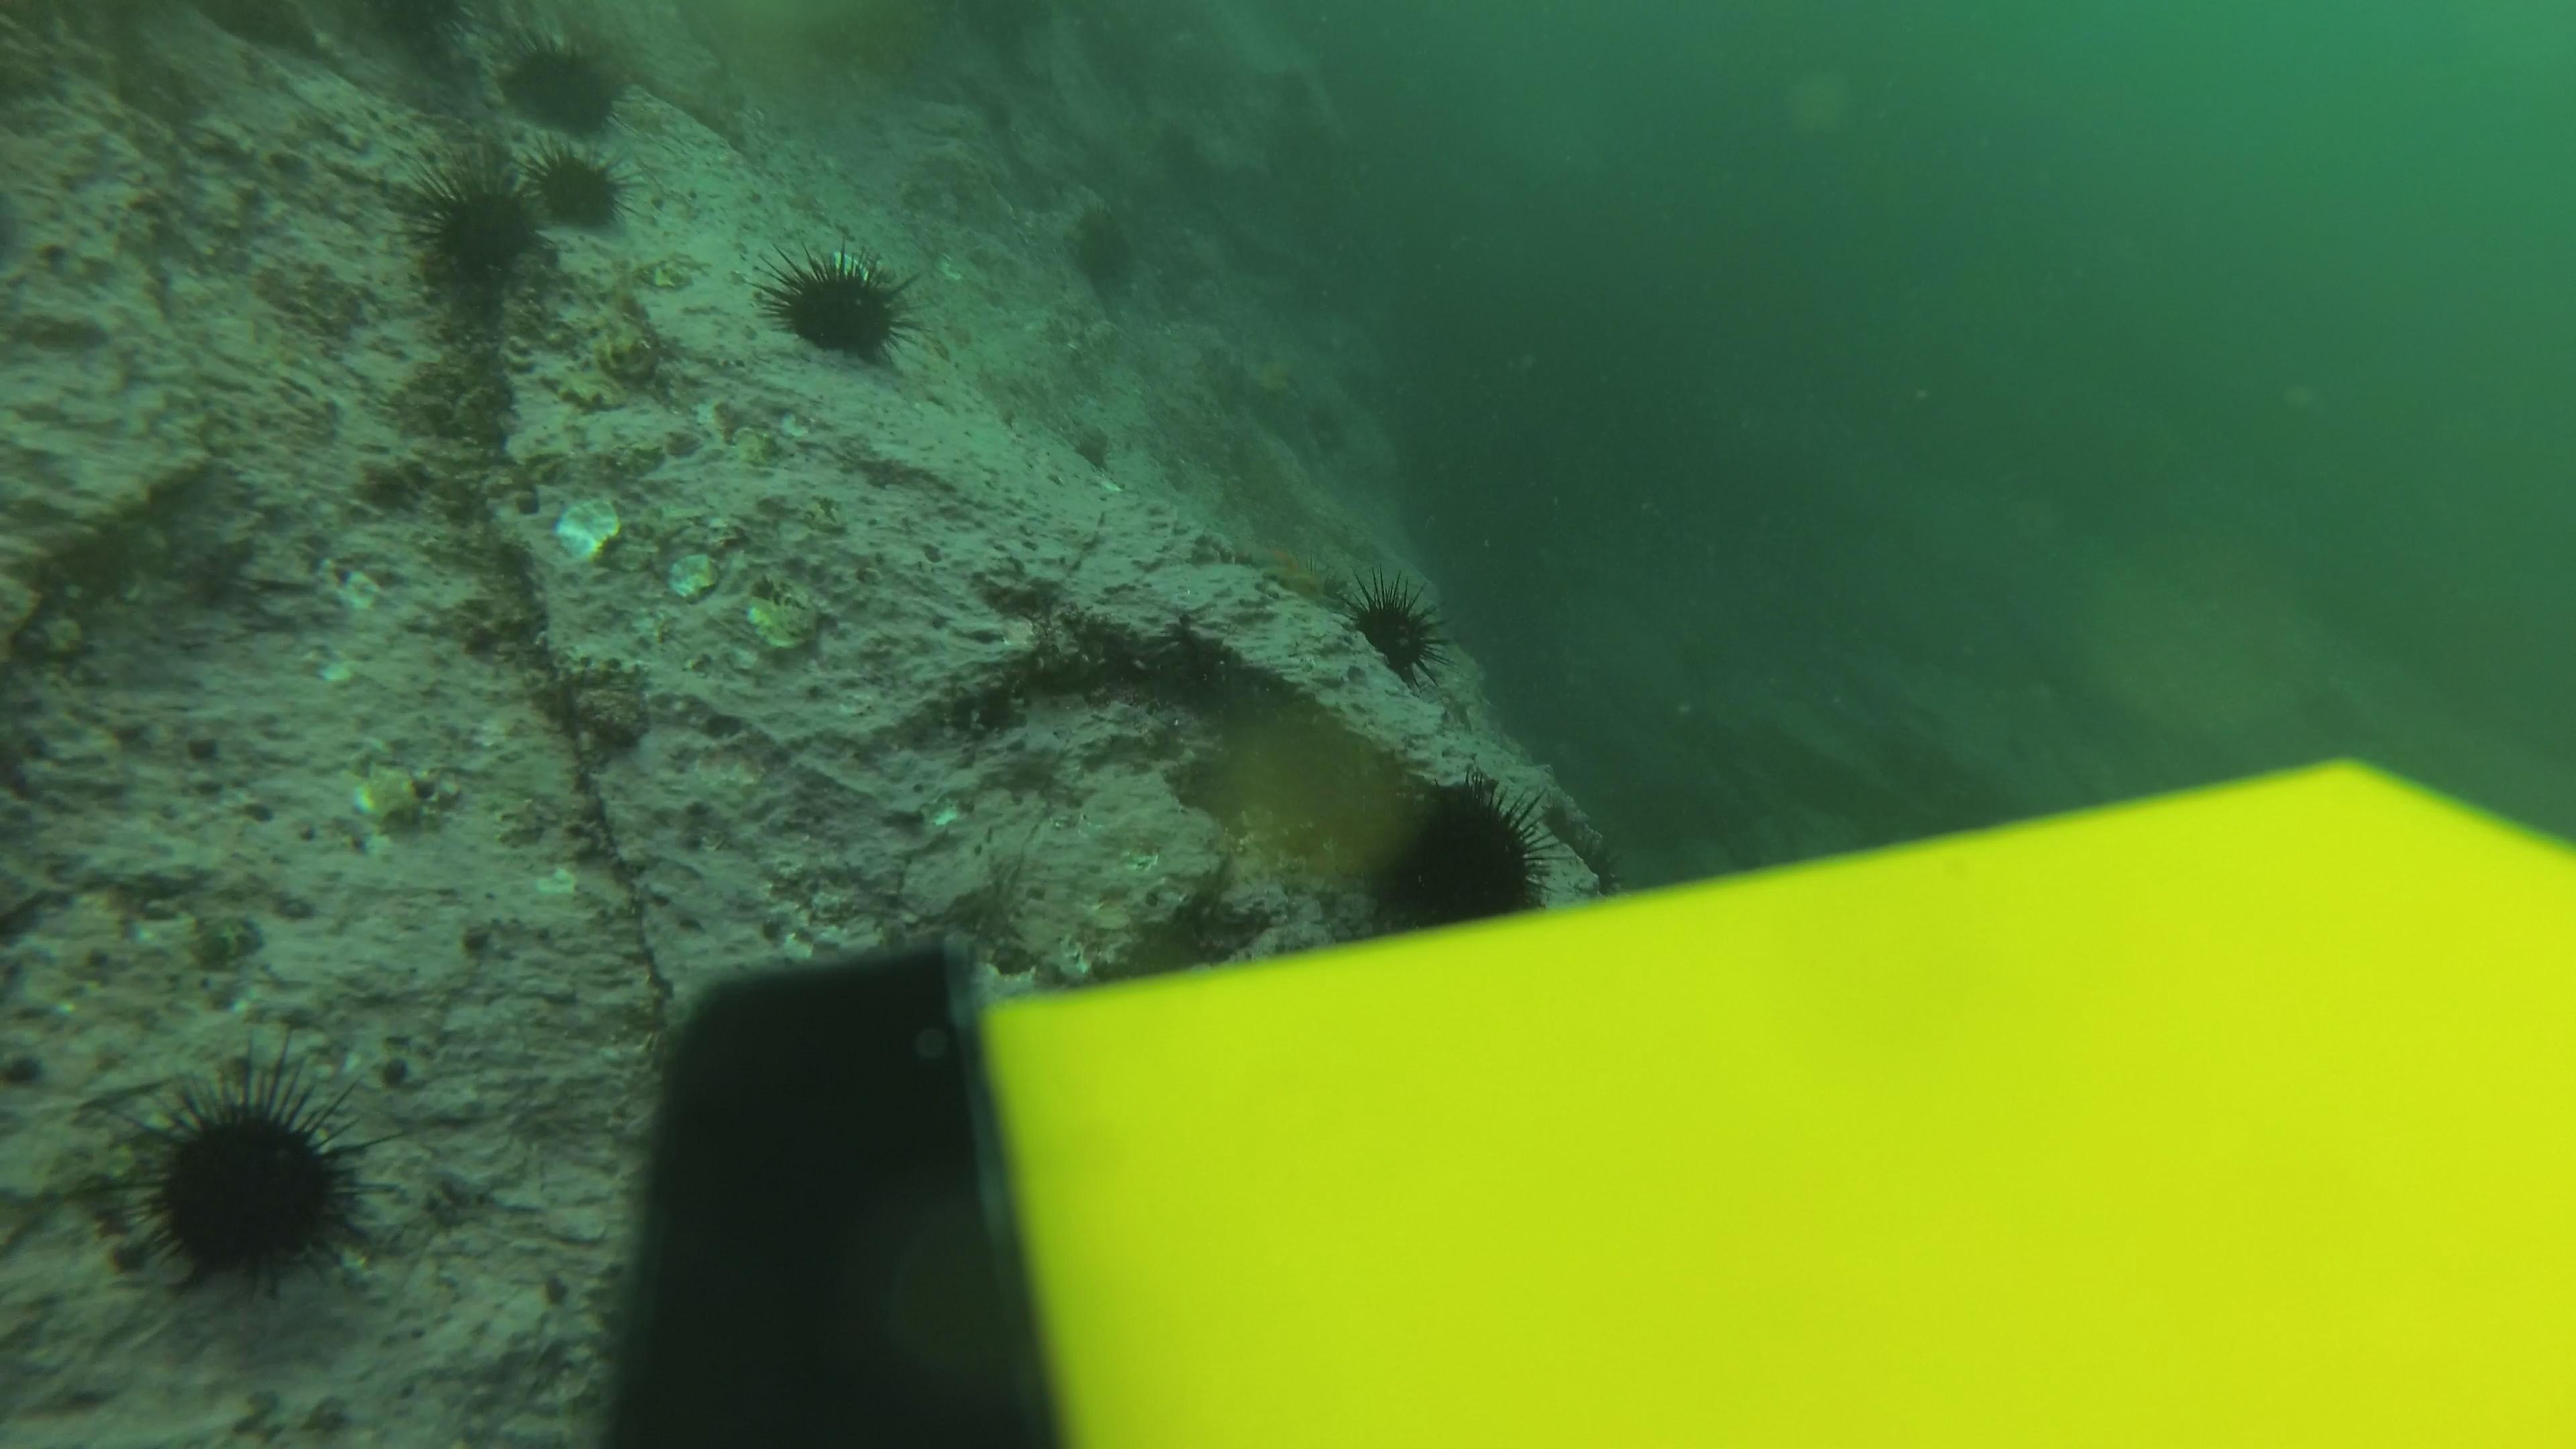echinus: (113, 1049, 386, 1299), (1362, 777, 1562, 931), (761, 244, 918, 368), (405, 165, 548, 294), (492, 27, 635, 142), (1334, 573, 1453, 688), (518, 140, 632, 237), (1060, 198, 1146, 297)
starfish: (1246, 536, 1345, 605), (1231, 338, 1316, 414)
